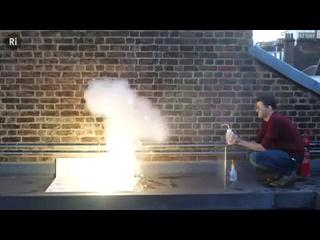Fire: (83, 74, 145, 194)
